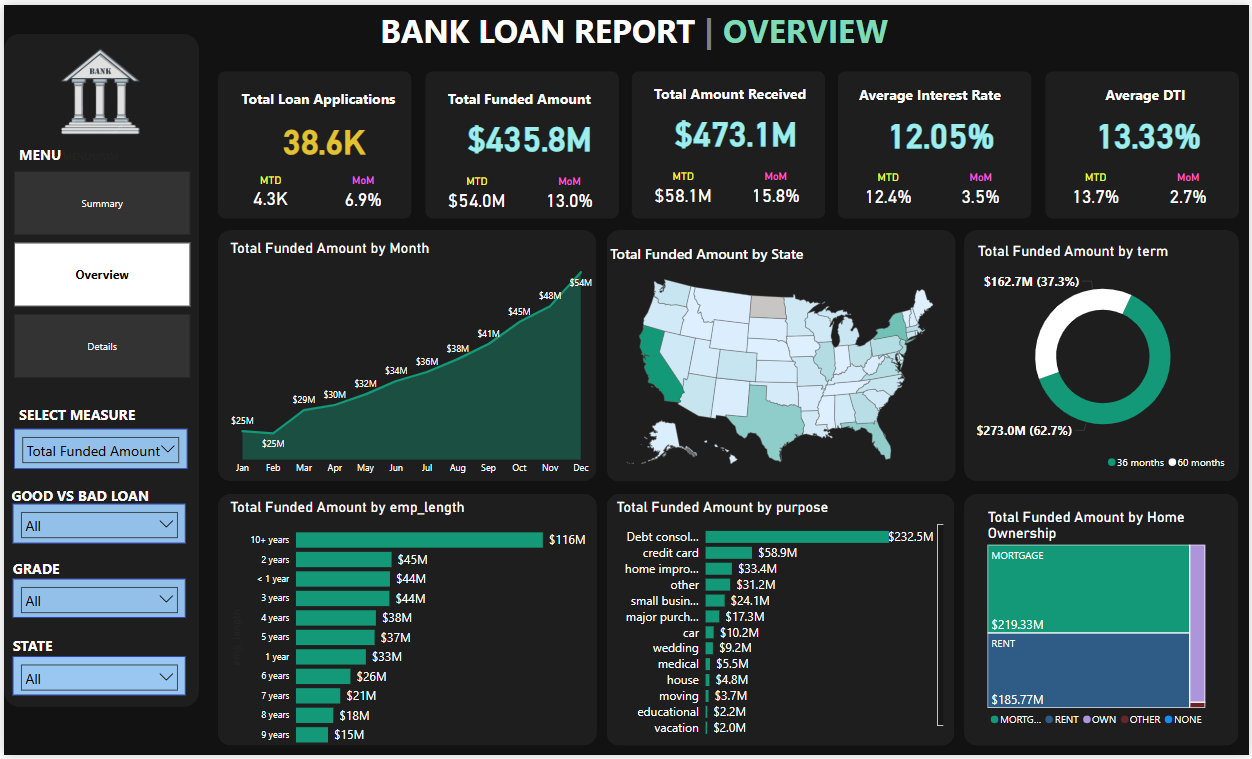

The page's visual inventory and layout, read from the dashboard file:
{"tool":"powerbi","page":{"name":"Overview","canvas":[1660,1000],"ordinal":1},"visuals":[{"type":"shape","box":[14,88,260,898],"z":0},{"type":"card","fields":{"Values":["bankloan.Total Amount Recevied"]},"box":[886.9,105.8,178.3,125.8],"z":0,"group":"g3"},{"type":"card","fields":{"Values":["bankloan.Avg DTI"]},"box":[1437,106.3,178.3,125.8],"z":0,"group":"g5"},{"type":"card","fields":{"Values":["bankloan.Avg Interest Rate"]},"box":[1159.9,106.8,178.3,125.8],"z":0,"group":"g4"},{"type":"card","fields":{"Values":["bankloan.Total Funded Amount"]},"box":[611,112.6,178.3,125.8],"z":0,"group":"g2"},{"type":"card","fields":{"Values":["bankloan.Total Loan Application"]},"box":[345.4,115,160,125.2],"z":0,"group":"g1"},{"type":"slicer","fields":{"Values":["bankloan.grade"]},"box":[30.9,810.9,230.8,52.3],"z":0,"group":"g6"},{"type":"textbox","box":[496.7,0,798.3,76.7],"z":1000},{"type":"textbox","box":[862.4,100.6,225.4,37.7],"z":1000,"group":"g3"},{"type":"textbox","box":[1412.5,101.1,225.4,37.7],"z":1000,"group":"g5"},{"type":"textbox","box":[1135.4,101.6,225.4,37.7],"z":1000,"group":"g4"},{"type":"textbox","box":[311.6,107.3,225.4,37.6],"z":1000,"group":"g1"},{"type":"textbox","box":[586.5,107.4,225.4,37.7],"z":1000,"group":"g2"},{"type":"pageNavigator","box":[31.9,268,235,275],"z":1000,"group":"g6"},{"type":"shape","box":[285,88.3,258.3,196.7],"z":2000,"group":"g7"},{"type":"card","title":"MoM","fields":{"Values":["bankloan.MoM Amount Received"]},"box":[970.1,219.8,117.7,50],"z":2000,"group":"g3"},{"type":"card","title":"MoM","fields":{"Values":["bankloan.MoM DTI"]},"box":[1520.2,220.3,117.7,50],"z":2000,"group":"g5"},{"type":"card","title":"MoM","fields":{"Values":["bankloan.MoM Interest Rate"]},"box":[1243.1,220.8,117.7,50],"z":2000,"group":"g4"},{"type":"card","title":"MoM","fields":{"Values":["bankloan.MoM Loan Application"]},"box":[419.3,226.4,117.7,49.9],"z":2000,"group":"g1"},{"type":"card","title":"MoM","fields":{"Values":["bankloan.MoM Funded Amount"]},"box":[694.2,226.6,117.7,50],"z":2000,"group":"g2"},{"type":"shape","box":[285,300,505,335],"z":2000},{"type":"slicer","fields":{"Values":["bankloan.Good VS Bad Loan"]},"box":[30.9,711.7,230.8,53.1],"z":2000,"group":"g6"},{"type":"card","title":"MTD","fields":{"Values":["bankloan.MTD Amount Received"]},"box":[847,219.8,117.7,50],"z":3000,"group":"g3"},{"type":"card","title":"MTD","fields":{"Values":["bankloan.MTD DTI"]},"box":[1397.1,220.3,117.7,50],"z":3000,"group":"g5"},{"type":"card","title":"MTD","fields":{"Values":["bankloan.MTD Interest Rate"]},"box":[1120,220.8,117.7,50],"z":3000,"group":"g4"},{"type":"card","title":"MTD","fields":{"Values":["bankloan.MTD Loan Application"]},"box":[296.2,226.4,117.7,49],"z":3000,"group":"g1"},{"type":"card","title":"MTD","fields":{"Values":["bankloan.MTD Funded Amount"]},"box":[571.1,226.6,117.7,50],"z":3000,"group":"g2"},{"type":"shape","box":[803.3,300,465.6,335.6],"z":3000},{"type":"slicer","fields":{"Values":["bankloan.address_state"]},"box":[30.9,914.8,230.8,52.3],"z":3000,"group":"g6"},{"type":"shape","box":[1280,300,366.7,335],"z":4000},{"type":"textbox","box":[25.9,779.7,140,46],"z":4000,"group":"g6"},{"type":"shape","box":[561.7,88.3,258.3,196.7],"z":5000,"group":"g7"},{"type":"shape","box":[285.7,651.4,505.7,335.7],"z":5000},{"type":"textbox","box":[24,682.3,257.1,45.7],"z":5000,"group":"g6"},{"type":"shape","box":[836.7,88.3,258.3,196.7],"z":6000,"group":"g7"},{"type":"shape","box":[804,652,464,336],"z":6000},{"type":"textbox","box":[25.7,883.5,140,45.7],"z":6000,"group":"g6"},{"type":"shape","box":[1111.7,88.3,258.3,196.7],"z":7000,"group":"g7"},{"type":"textbox","box":[33.6,228,198.3,45],"z":7000,"group":"g6"},{"type":"shape","box":[1280,652,366,336],"z":7000},{"type":"shape","box":[1388.3,88.3,258.3,196.7],"z":8000,"group":"g7"},{"type":"areaChart","fields":{"Y":["bankloan.Total Funded Amount"],"Category":["Date Table.Month"]},"box":[296,314,494,322],"z":8000},{"type":"shapeMap","fields":{"Value":["bankloan.Total Funded Amount"],"Category":["bankloan.address_state"]},"box":[803.3,318.3,463.3,316.7],"z":9000},{"type":"group","id":"g1","title":"Group 1","box":[296.2,107.3,240.8,169],"z":10000,"group":"g7"},{"type":"donutChart","fields":{"Y":["bankloan.Total Funded Amount"],"Category":["bankloan.term"]},"box":[1294,316,344,312],"z":10000},{"type":"group","id":"g2","title":"Group 1","box":[571.1,107.4,240.8,169.2],"z":11000,"group":"g7"},{"type":"barChart","fields":{"Y":["bankloan.Total Funded Amount"],"Category":["bankloan.emp_length"]},"box":[296.4,659.1,493.6,340.9],"z":11000},{"type":"group","id":"g3","title":"Group 1","box":[847,100.6,241.2,170],"z":12000,"group":"g7"},{"type":"barChart","fields":{"Y":["bankloan.Total Funded Amount"],"Category":["bankloan.purpose"]},"box":[812,658,446,328],"z":12000},{"type":"group","id":"g4","title":"Group 1","box":[1120,101.6,241.7,170],"z":13000,"group":"g7"},{"type":"treemap","fields":{"Values":["bankloan.Total Funded Amount"],"Group":["bankloan.home_ownership"]},"box":[1306,672,300,300],"z":13000},{"type":"group","id":"g5","title":"Group 1","box":[1397.1,101.1,241.4,170],"z":14000,"group":"g7"},{"type":"slicer","fields":{"Values":["Parameter.Parameter"]},"box":[30,622.2,230,52.2],"z":14000},{"type":"textbox","box":[30,583.3,198.9,44.4],"z":15000},{"type":"group","id":"g6","title":"Group 3","box":[24,228,256,738],"z":16000},{"type":"image","box":[48,76,196,160],"z":17000},{"type":"group","id":"g7","title":"Group 2","box":[285,88.3,1361.7,196.7],"z":18000}]}

Visuals, with their boxes in screenshot pixels (x1, y1, x2, y2), scaled from the page's 1660x1000 canvas onto the 1252x759 screenshot:
shape: Rect(11, 67, 207, 748)
card - bankloan.Total Amount Recevied: Rect(669, 80, 803, 176)
card - bankloan.Avg DTI: Rect(1084, 81, 1218, 176)
card - bankloan.Avg Interest Rate: Rect(875, 81, 1009, 177)
card - bankloan.Total Funded Amount: Rect(461, 85, 595, 181)
card - bankloan.Total Loan Application: Rect(261, 87, 381, 182)
slicer - bankloan.grade: Rect(23, 615, 197, 655)
textbox: Rect(375, 0, 977, 58)
textbox: Rect(650, 76, 820, 105)
textbox: Rect(1065, 77, 1235, 105)
textbox: Rect(856, 77, 1026, 106)
textbox: Rect(235, 81, 405, 110)
textbox: Rect(442, 82, 612, 110)
pageNavigator: Rect(24, 203, 201, 412)
shape: Rect(215, 67, 410, 216)
"MoM" card: Rect(732, 167, 820, 205)
"MoM" card: Rect(1147, 167, 1235, 205)
"MoM" card: Rect(938, 168, 1026, 206)
"MoM" card: Rect(316, 172, 405, 210)
"MoM" card: Rect(524, 172, 612, 210)
shape: Rect(215, 228, 596, 482)
slicer - bankloan.Good VS Bad Loan: Rect(23, 540, 197, 580)
"MTD" card: Rect(639, 167, 728, 205)
"MTD" card: Rect(1054, 167, 1142, 205)
"MTD" card: Rect(845, 168, 933, 206)
"MTD" card: Rect(223, 172, 312, 209)
"MTD" card: Rect(431, 172, 520, 210)
shape: Rect(606, 228, 957, 482)
slicer - bankloan.address_state: Rect(23, 694, 197, 734)
shape: Rect(965, 228, 1242, 482)
textbox: Rect(20, 592, 125, 627)
shape: Rect(424, 67, 618, 216)
shape: Rect(215, 494, 597, 749)
textbox: Rect(18, 518, 212, 553)
shape: Rect(631, 67, 826, 216)
shape: Rect(606, 495, 956, 750)
textbox: Rect(19, 671, 125, 705)
shape: Rect(838, 67, 1033, 216)
textbox: Rect(25, 173, 175, 207)
shape: Rect(965, 495, 1241, 750)
shape: Rect(1047, 67, 1242, 216)
areaChart - bankloan.Total Funded Amount x Date Table.Month: Rect(223, 238, 596, 483)
shapeMap - bankloan.Total Funded Amount x bankloan.address_state: Rect(606, 242, 955, 482)
"Group 1" group: Rect(223, 81, 405, 210)
donutChart - bankloan.Total Funded Amount x bankloan.term: Rect(976, 240, 1235, 477)
"Group 1" group: Rect(431, 82, 612, 210)
barChart - bankloan.Total Funded Amount x bankloan.emp_length: Rect(224, 500, 596, 758)
"Group 1" group: Rect(639, 76, 821, 205)
barChart - bankloan.Total Funded Amount x bankloan.purpose: Rect(612, 499, 949, 748)
"Group 1" group: Rect(845, 77, 1027, 206)
treemap - bankloan.Total Funded Amount x bankloan.home_ownership: Rect(985, 510, 1211, 738)
"Group 1" group: Rect(1054, 77, 1236, 206)
slicer - Parameter.Parameter: Rect(23, 472, 196, 512)
textbox: Rect(23, 443, 173, 476)
"Group 3" group: Rect(18, 173, 211, 733)
image: Rect(36, 58, 184, 179)
"Group 2" group: Rect(215, 67, 1242, 216)
